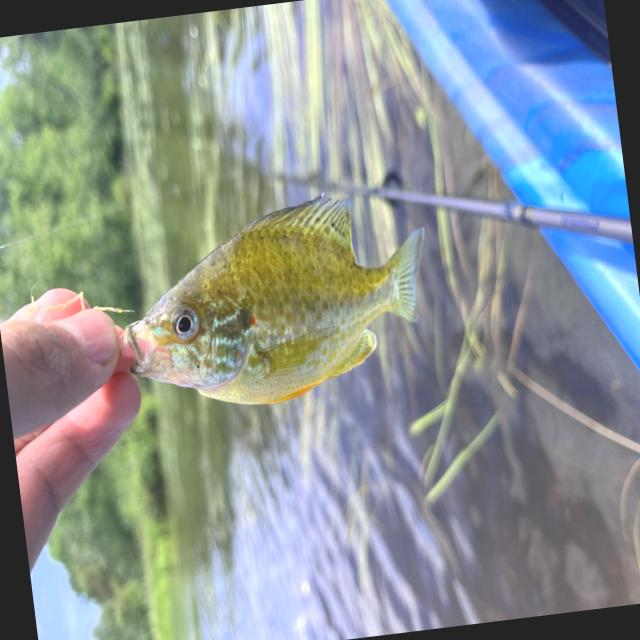Gunes Levregi: (106, 178, 444, 422)
